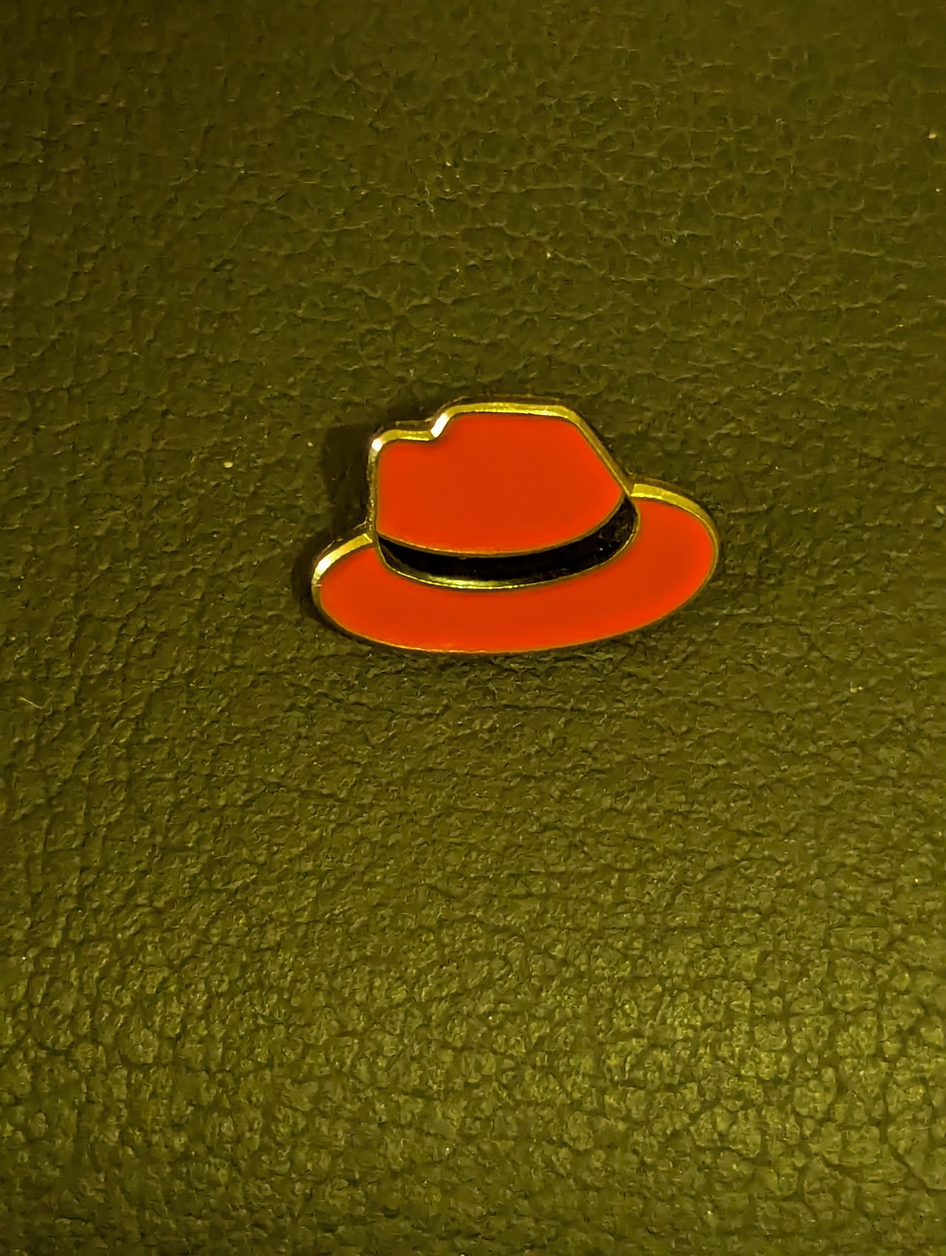Red-Hat: (195, 332, 823, 789)
